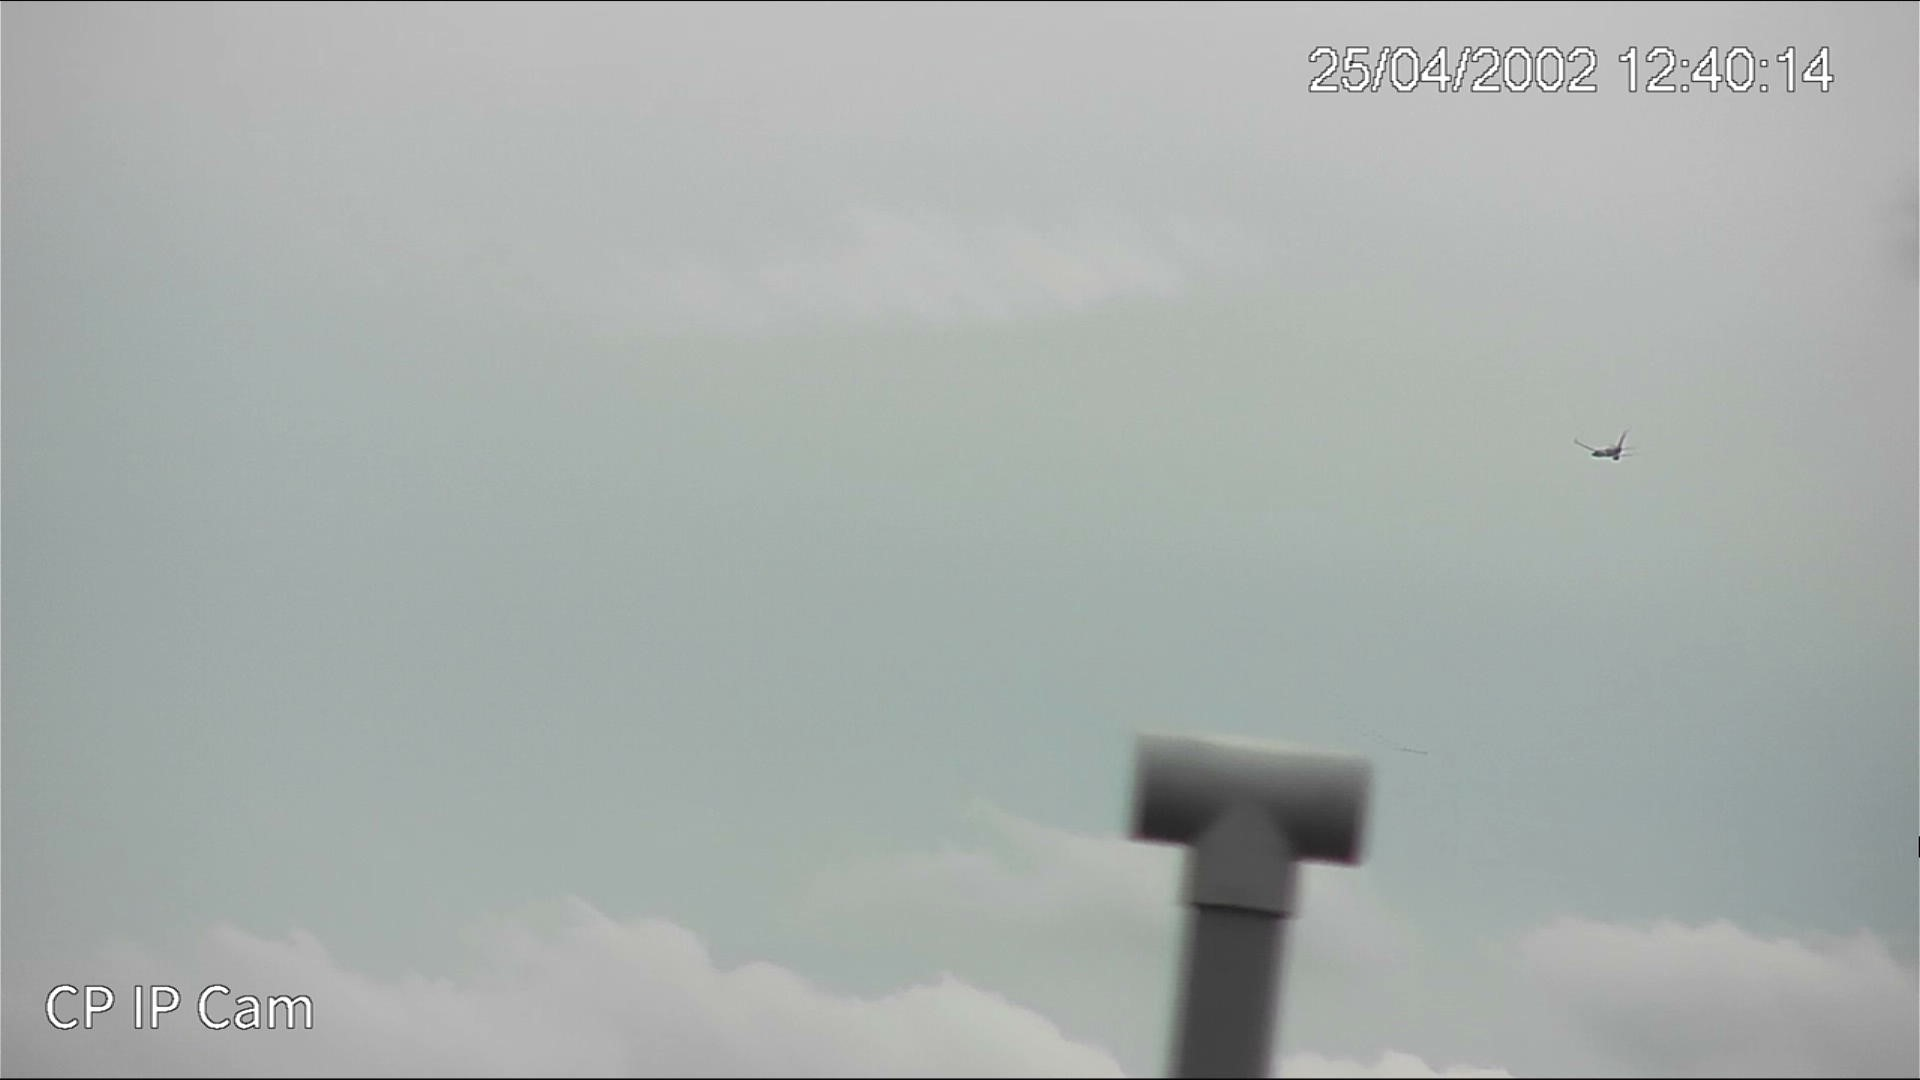SU_30: (1581, 440, 1633, 464)
